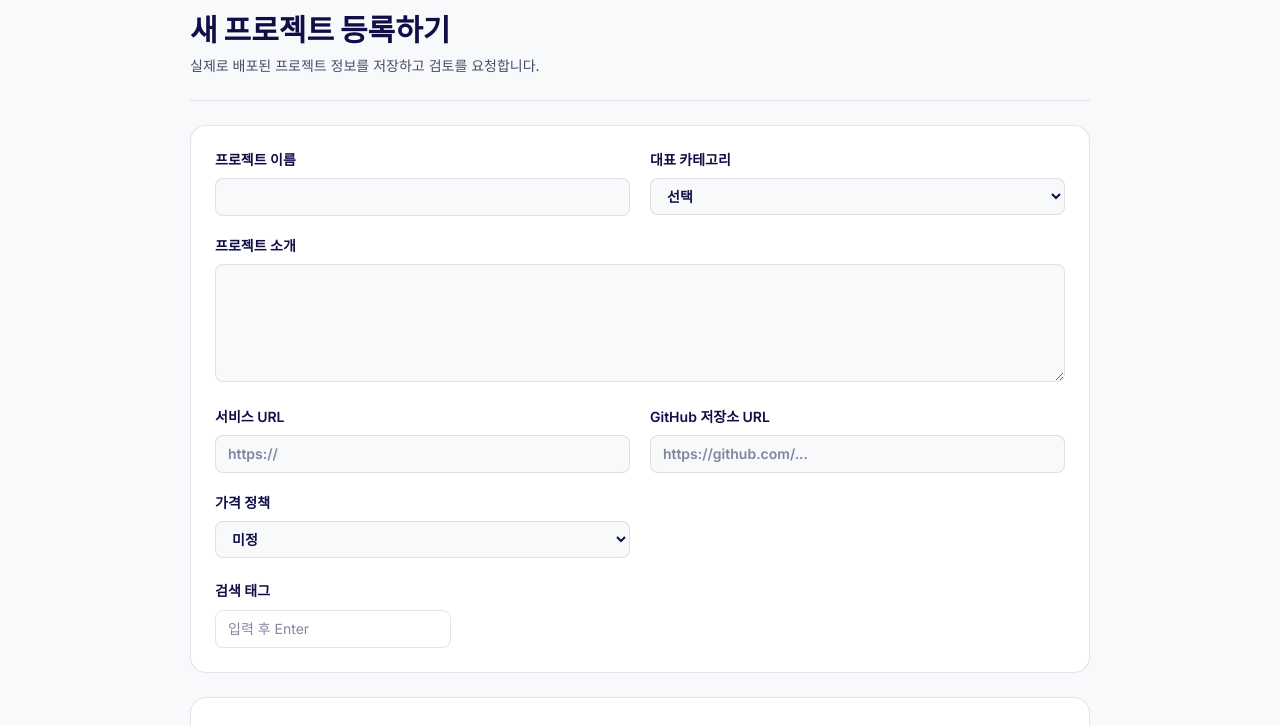
it: ProjectRegisterView › removes a tag after it was added
The width and height of the screenshot is (1280, 725).
Type "Analytics" into the field with placeholder "입력 후 Enter" at (333, 629), box 215,610 -> 451,648
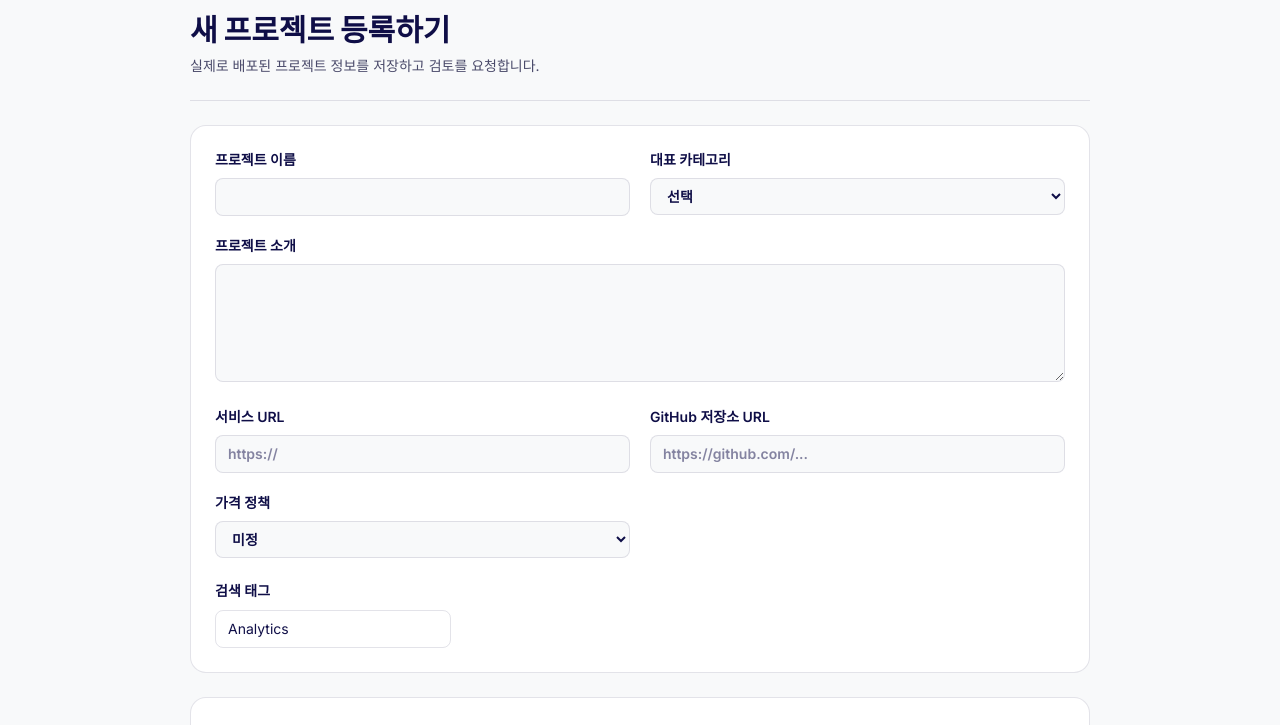
Press Enter in the field with placeholder "입력 후 Enter", box 215,610 -> 451,648
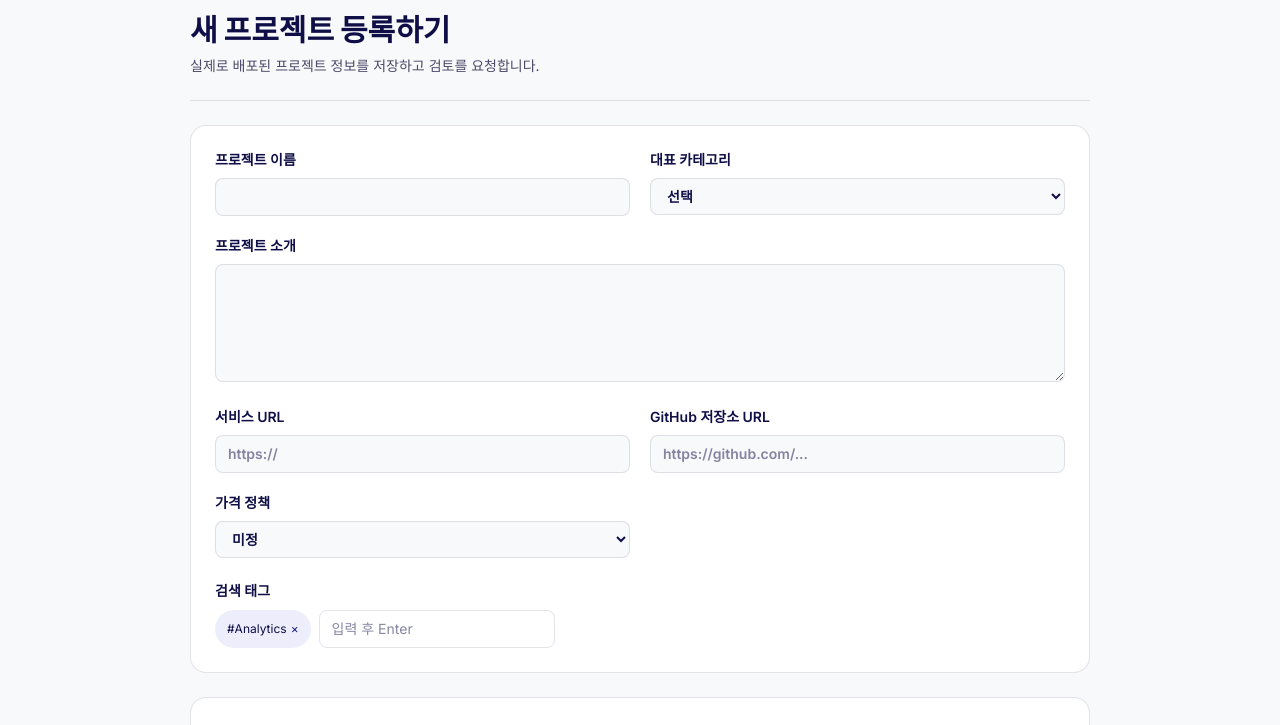
Expected: the text "#Analytics" is shown, 227,621 -> 287,636
Click the button named "Analytics 태그 삭제" at (295, 629), box 291,621 -> 299,637
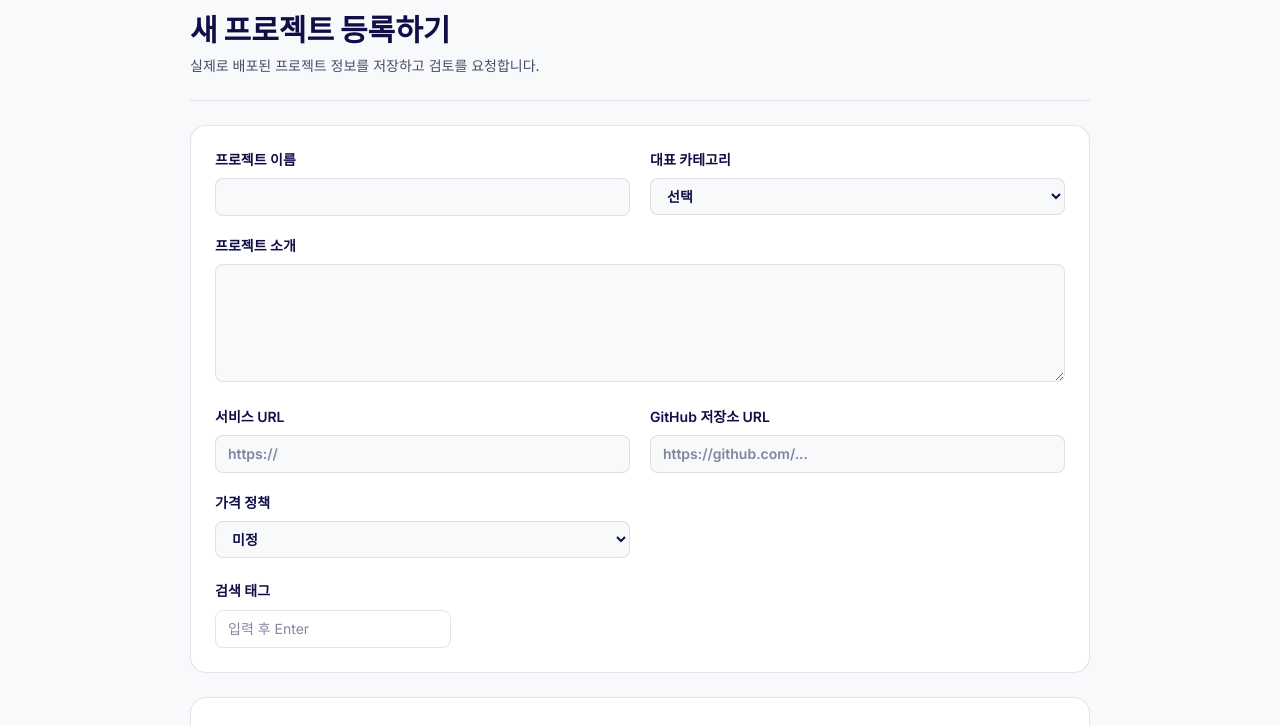
Expected: the text "#Analytics" is gone
